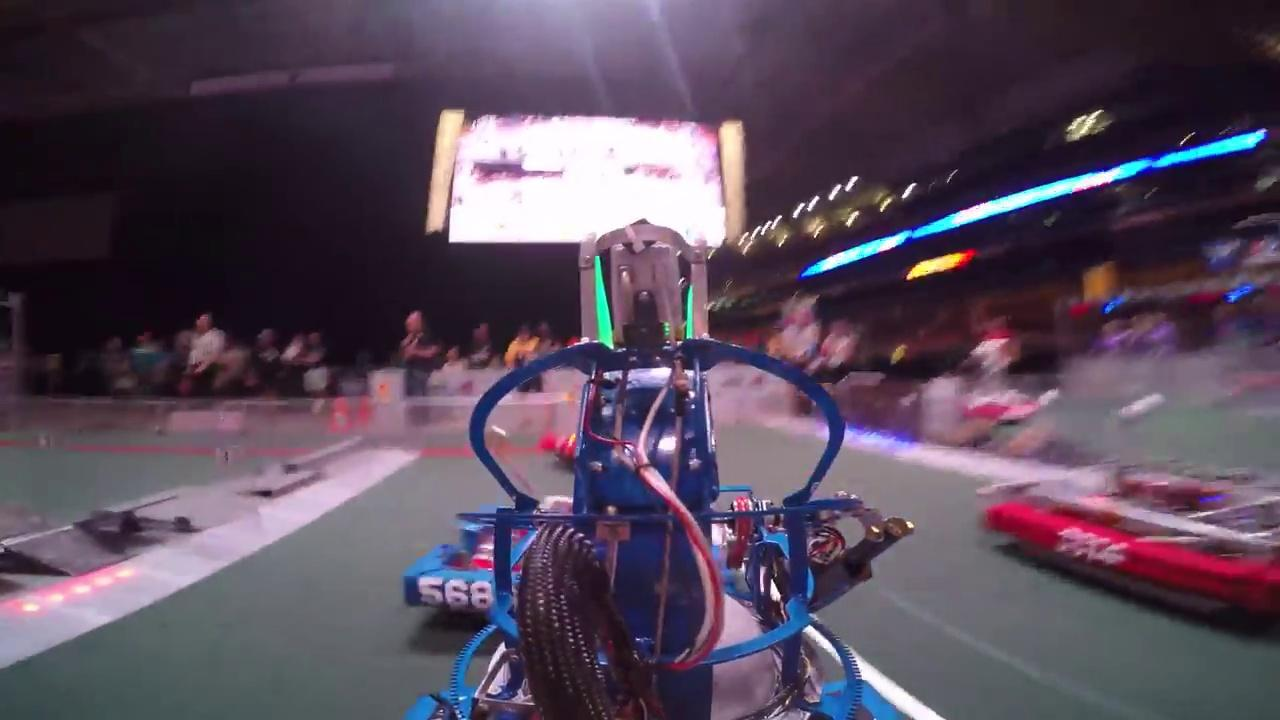robot: (979, 440, 1280, 627)
